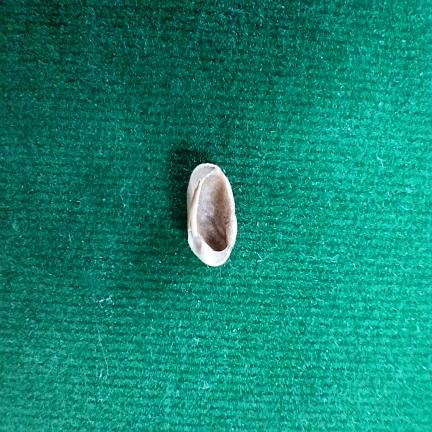shell: (187, 163, 237, 266)
